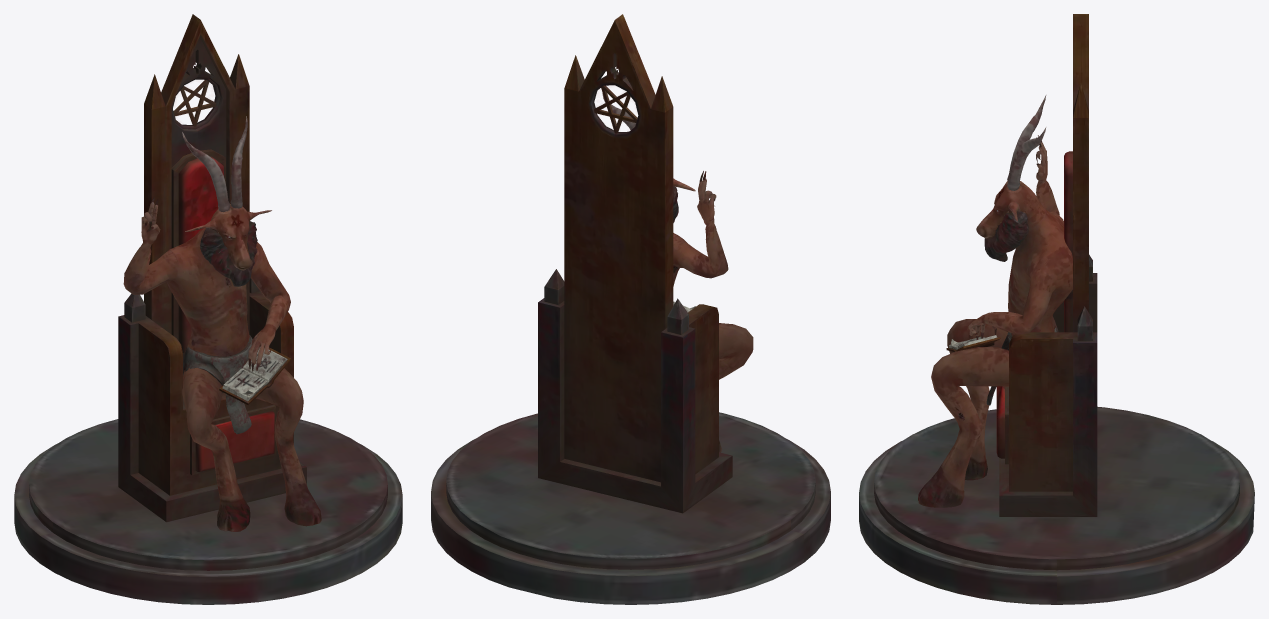
File: satan_compressed.glb
3 renders of one model, left to right at view 1: azimuth 30°, elevation 25°; view 2: azimuth 150°, elevation 25°; view 3: azimuth 270°, elevation 25°, orthographic. The views are drawn at different scales.
Parts seen in each view (by area): view 1: Circle001_Throne_0, Ba_Satan_0, Clothobj_Cloth_0, Plane001_Book_0; view 2: Circle001_Throne_0, Ba_Satan_0; view 3: Circle001_Throne_0, Ba_Satan_0.
Part boxes in pixels (bbox=[...]): Circle001_Throne_0: bbox=[14, 14, 402, 604]; Ba_Satan_0: bbox=[123, 116, 321, 531]; Clothobj_Cloth_0: bbox=[183, 335, 252, 434]; Plane001_Book_0: bbox=[219, 347, 291, 404]; Circle001_Throne_0: bbox=[431, 14, 830, 604]; Ba_Satan_0: bbox=[602, 93, 753, 452]; Circle001_Throne_0: bbox=[859, 14, 1254, 604]; Ba_Satan_0: bbox=[918, 95, 1072, 507].
Bounding box in the file's own units: 169 × 239 × 169.
Materials: 5 (5 with a texture image).
